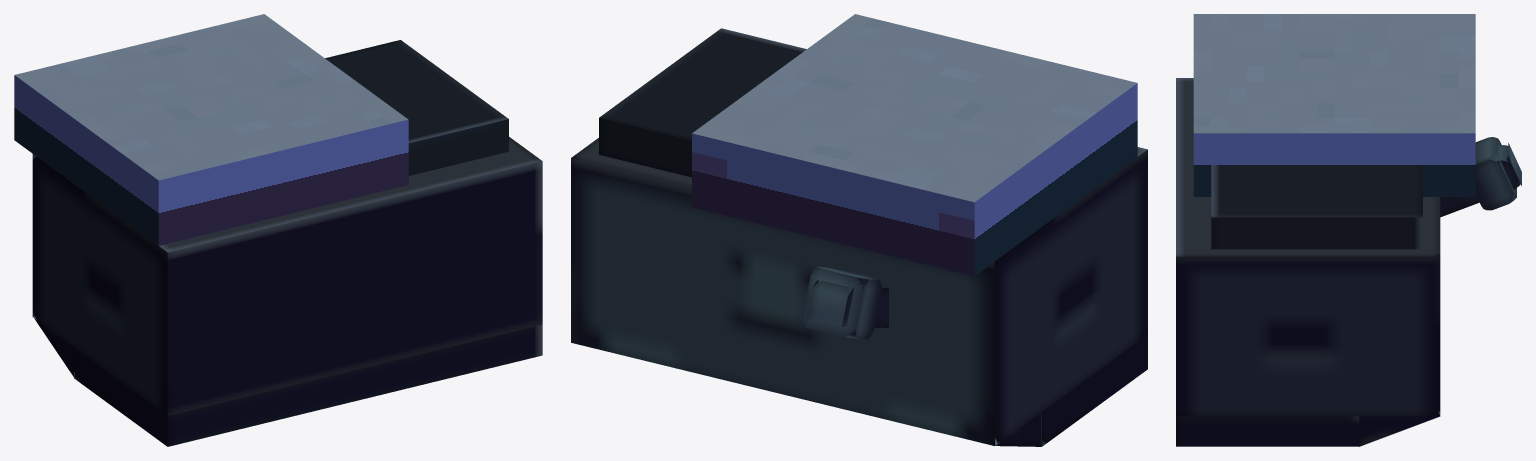
File: m1_oil_tank.obj
3 renders of one model, left to right at view 1: azimuth 30°, elevation 25°; view 2: azimuth 150°, elevation 25°; view 3: azimuth 270°, elevation 25°, orthographic. The views are drawn at different scales.
Parts seen in each view (by area): view 1: part_f78f4c75d9bc1daaa4ee61637148fc42, part_c6de2b9efce3c198a0946534a6499c7c, part_13eff4ffbacbaa8dbe37a3f60ab71701, part_e1cd20d6e2fafb4b91633eb665654a64, part_6d6693ae8d0cba012371bc6620b6d5b1; view 2: part_f78f4c75d9bc1daaa4ee61637148fc42, part_c6de2b9efce3c198a0946534a6499c7c, part_e1cd20d6e2fafb4b91633eb665654a64, part_13eff4ffbacbaa8dbe37a3f60ab71701, part_5c36cd27b93bb95695409261949283ad, part_b4869237188f4f013653f5e191c61f6a, part_6d6693ae8d0cba012371bc6620b6d5b1; view 3: part_f78f4c75d9bc1daaa4ee61637148fc42, part_c6de2b9efce3c198a0946534a6499c7c, part_e1cd20d6e2fafb4b91633eb665654a64, part_13eff4ffbacbaa8dbe37a3f60ab71701, part_5c36cd27b93bb95695409261949283ad, part_6d6693ae8d0cba012371bc6620b6d5b1, part_b4869237188f4f013653f5e191c61f6a.
Part boxes in pixels (bbox=[...]): part_f78f4c75d9bc1daaa4ee61637148fc42: bbox=[32, 137, 542, 415]; part_c6de2b9efce3c198a0946534a6499c7c: bbox=[14, 14, 408, 245]; part_13eff4ffbacbaa8dbe37a3f60ab71701: bbox=[74, 324, 542, 446]; part_e1cd20d6e2fafb4b91633eb665654a64: bbox=[325, 40, 508, 175]; part_6d6693ae8d0cba012371bc6620b6d5b1: bbox=[33, 314, 76, 378]; part_f78f4c75d9bc1daaa4ee61637148fc42: bbox=[571, 138, 1147, 445]; part_c6de2b9efce3c198a0946534a6499c7c: bbox=[692, 14, 1137, 276]; part_e1cd20d6e2fafb4b91633eb665654a64: bbox=[599, 28, 806, 177]; part_13eff4ffbacbaa8dbe37a3f60ab71701: bbox=[1041, 334, 1147, 446]; part_5c36cd27b93bb95695409261949283ad: bbox=[802, 266, 882, 339]; part_b4869237188f4f013653f5e191c61f6a: bbox=[806, 278, 888, 327]; part_6d6693ae8d0cba012371bc6620b6d5b1: bbox=[995, 412, 1042, 446]; part_f78f4c75d9bc1daaa4ee61637148fc42: bbox=[1176, 78, 1440, 416]; part_c6de2b9efce3c198a0946534a6499c7c: bbox=[1193, 14, 1475, 196]; part_e1cd20d6e2fafb4b91633eb665654a64: bbox=[1211, 165, 1422, 249]; part_13eff4ffbacbaa8dbe37a3f60ab71701: bbox=[1176, 416, 1359, 446]; part_5c36cd27b93bb95695409261949283ad: bbox=[1475, 137, 1516, 210]; part_6d6693ae8d0cba012371bc6620b6d5b1: bbox=[1359, 253, 1440, 446]; part_b4869237188f4f013653f5e191c61f6a: bbox=[1440, 143, 1521, 217].
Bounding box in the file's own units: 1.5 × 0.9946 × 1.23.
